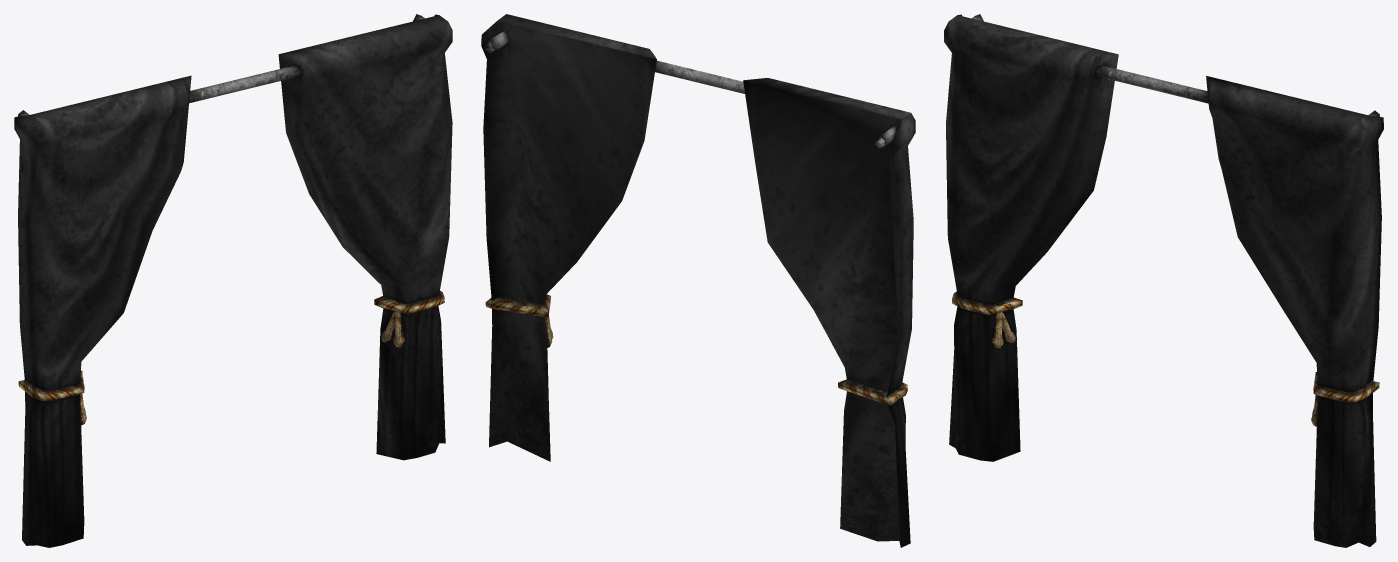
File: curtain11_open.dae
The picture shows the model from 3 angles, left to right: view 1: azimuth 30°, elevation 25°; view 2: azimuth 150°, elevation 25°; view 3: azimuth 330°, elevation 25°; orthographic projection.
Parts seen in each view (by area): view 1: curtain01_open; view 2: curtain01_open; view 3: curtain01_open.
Part boxes in pixels (x1=…): curtain01_open: x1=14, y1=14, x2=452, y2=547; curtain01_open: x1=481, y1=14, x2=915, y2=547; curtain01_open: x1=944, y1=14, x2=1383, y2=547.
Size of the model in its own units: 3.75 by 3.68 by 0.4366.
